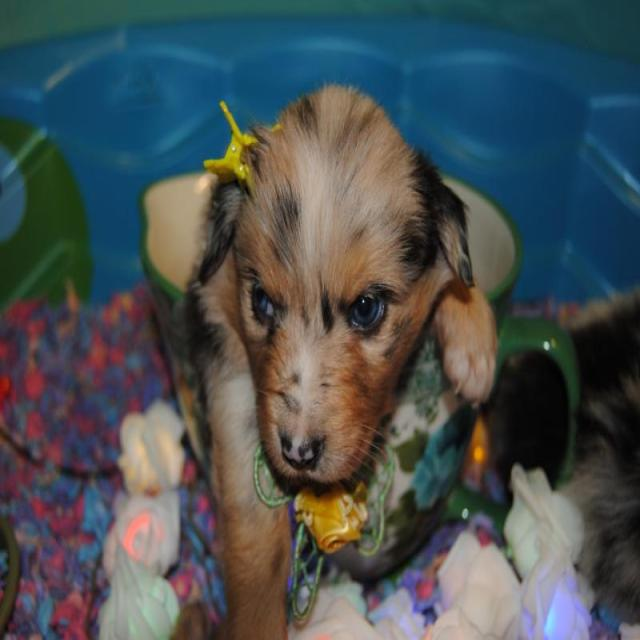dog: (172, 31, 508, 546)
